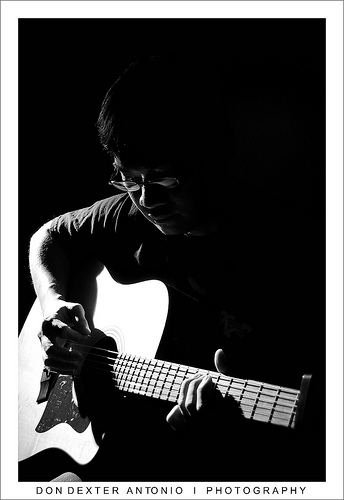guitar: (18, 263, 312, 479)
